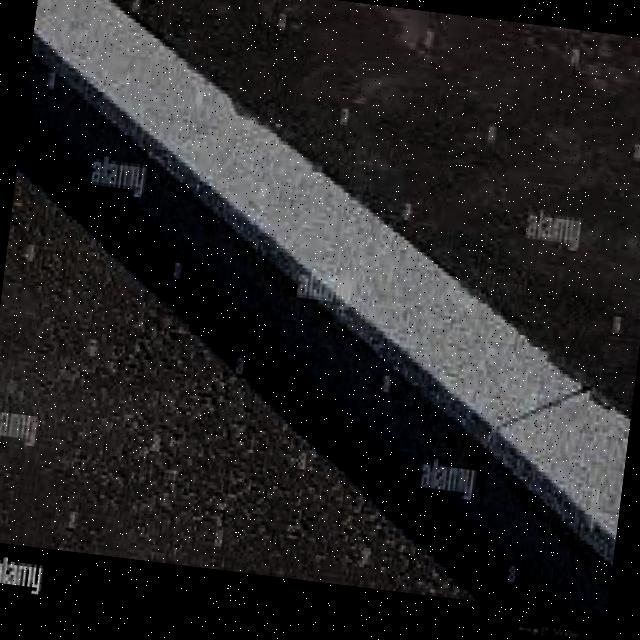curb: (250, 151, 640, 614), (6, 1, 307, 292)
